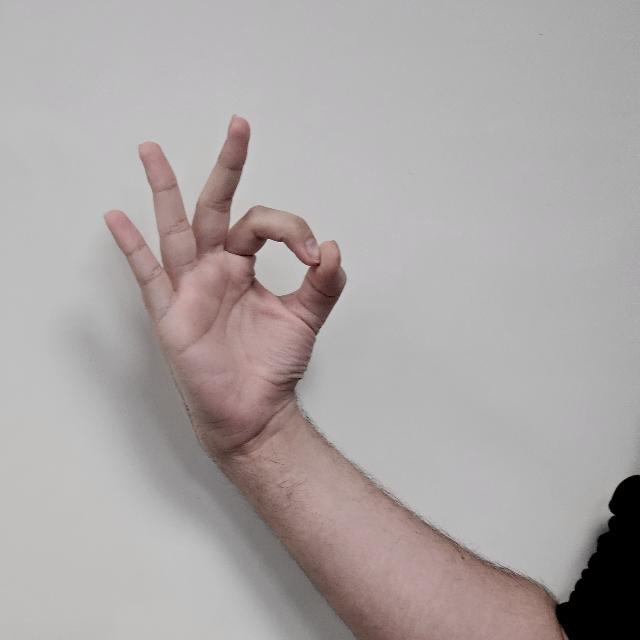Bolinha: (95, 111, 375, 515)
